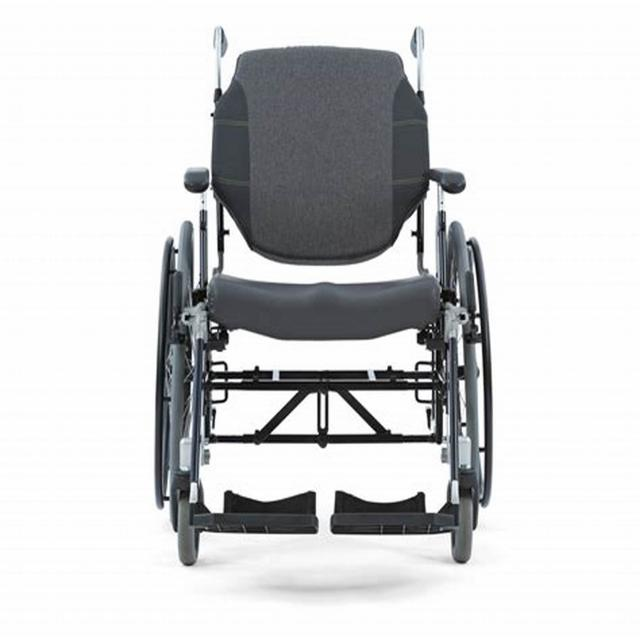wheelchairs: (157, 18, 495, 574)
